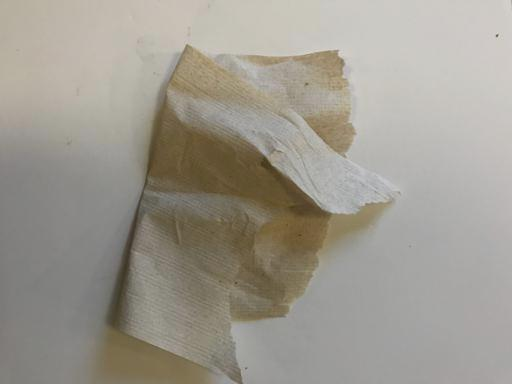trash: (112, 41, 401, 383)
